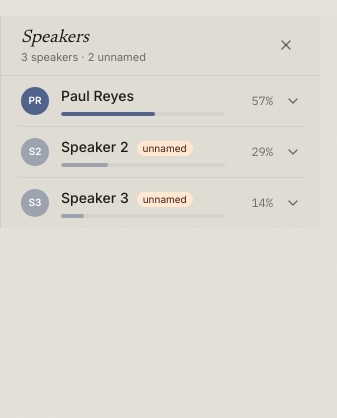
Test: SpeakersSidebar › expanding a row shows its first turn without jumping
Click the button "S2 Speaker 2 unnamed 29%". click: coordinates (161, 152)
box: left=21, top=126, right=301, bottom=176
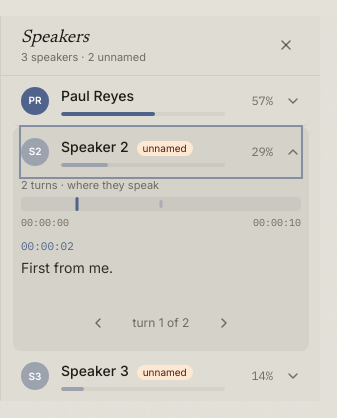
Expected: the text "turn 1 of 2" is shown, left=133, top=315, right=189, bottom=330
Expected: the text "First from me." is shown, left=21, top=258, right=113, bottom=276
